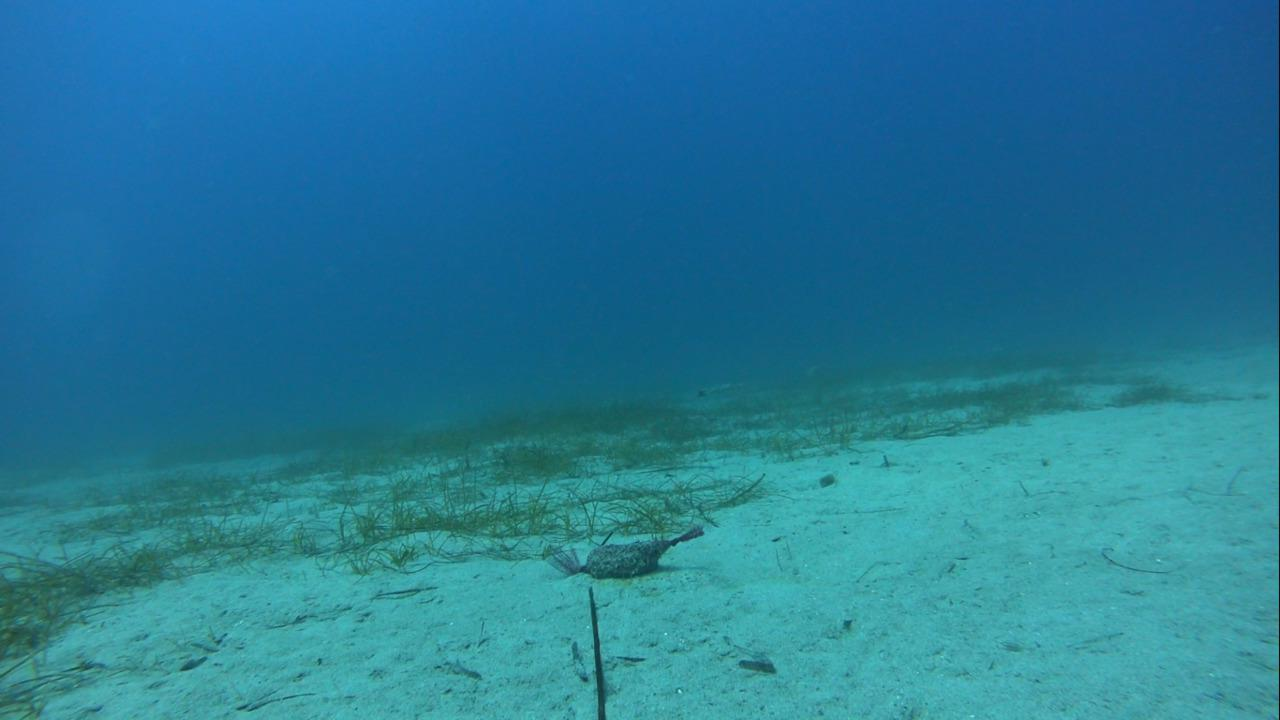dactylopterus: (684, 373, 760, 399)
